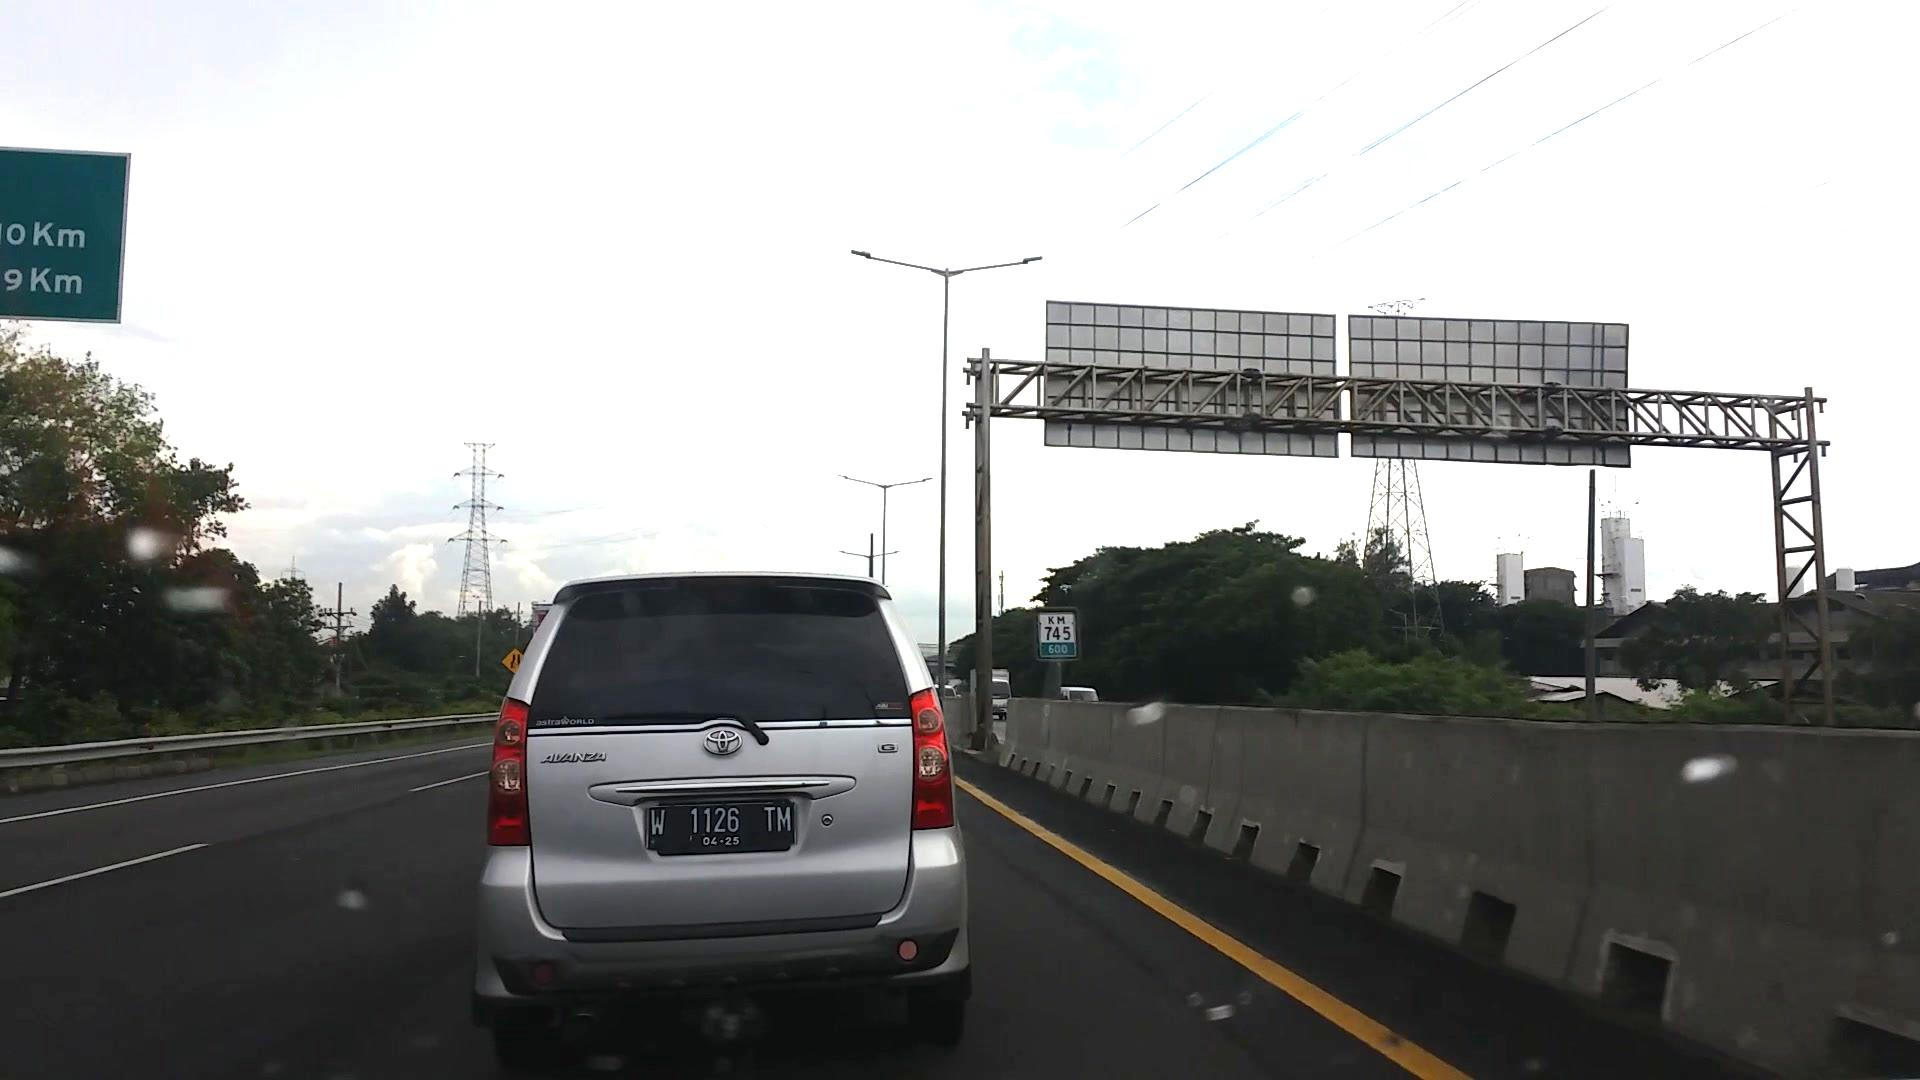plate_positive: (644, 804, 793, 847)
